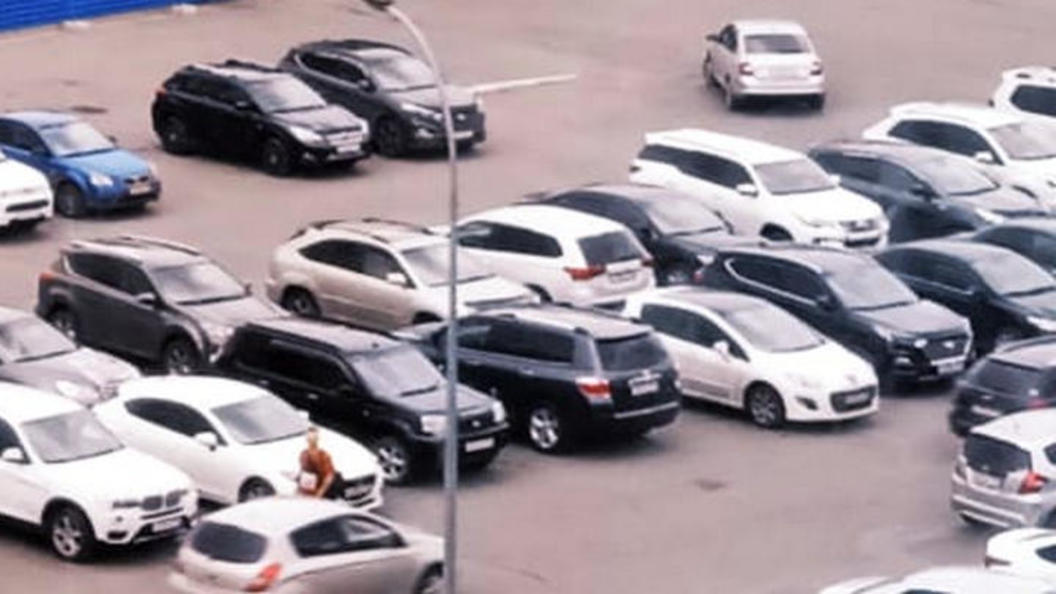Car: (212, 315, 508, 485), (388, 303, 682, 453), (697, 243, 974, 391), (90, 376, 385, 511), (622, 285, 879, 429), (35, 234, 293, 374), (0, 382, 199, 561), (628, 128, 889, 256), (266, 217, 544, 333), (169, 497, 445, 594), (150, 59, 370, 176), (520, 183, 768, 286), (427, 204, 658, 313), (276, 40, 489, 157), (807, 139, 1047, 242), (862, 102, 1056, 216), (875, 239, 1056, 356), (0, 111, 163, 218), (0, 305, 141, 406), (950, 409, 1056, 529), (701, 19, 827, 111), (948, 336, 1056, 437), (817, 565, 1056, 594), (946, 218, 1056, 277), (0, 150, 55, 234), (988, 66, 1056, 130), (983, 528, 1056, 586)
